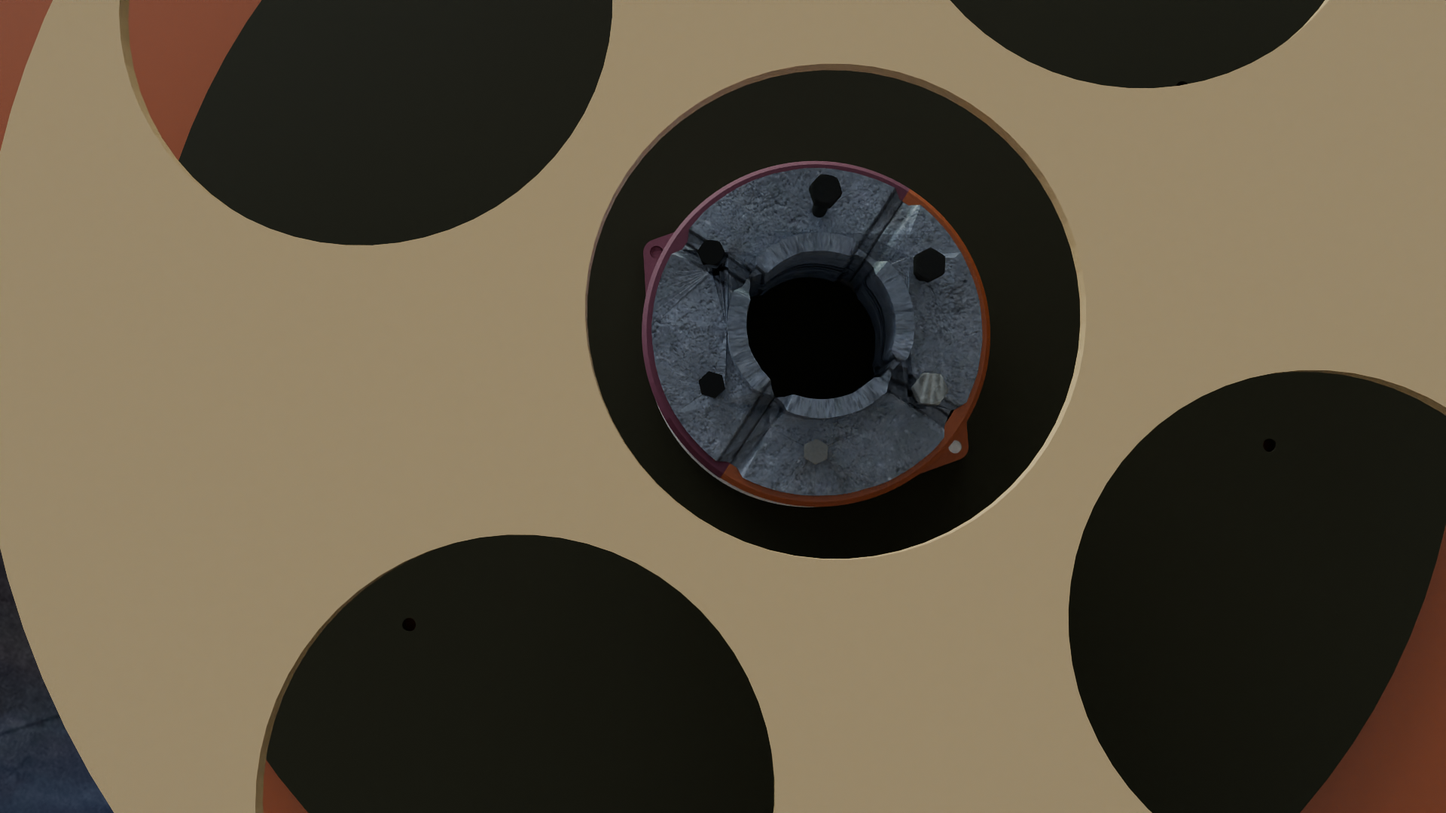bolt: (914, 373, 949, 405), (810, 174, 842, 205), (915, 248, 945, 281), (697, 240, 725, 266), (699, 371, 725, 398), (804, 438, 828, 464)
